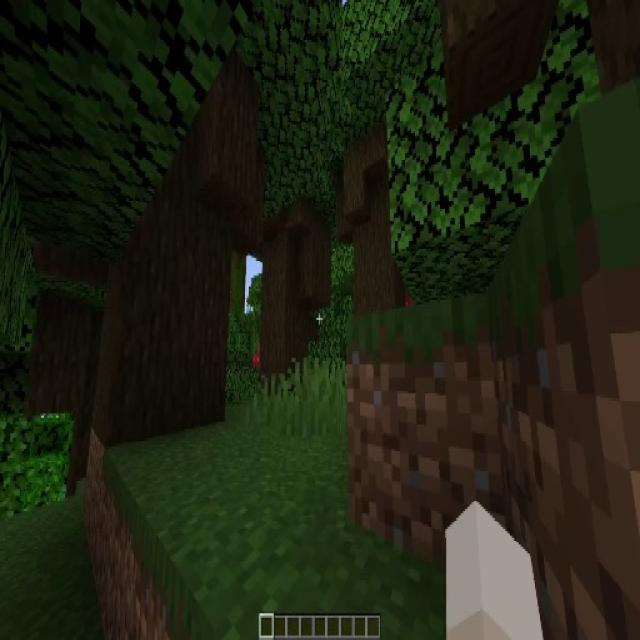dark_oak_log: (96, 53, 252, 440), (259, 135, 324, 367), (337, 118, 407, 314)
